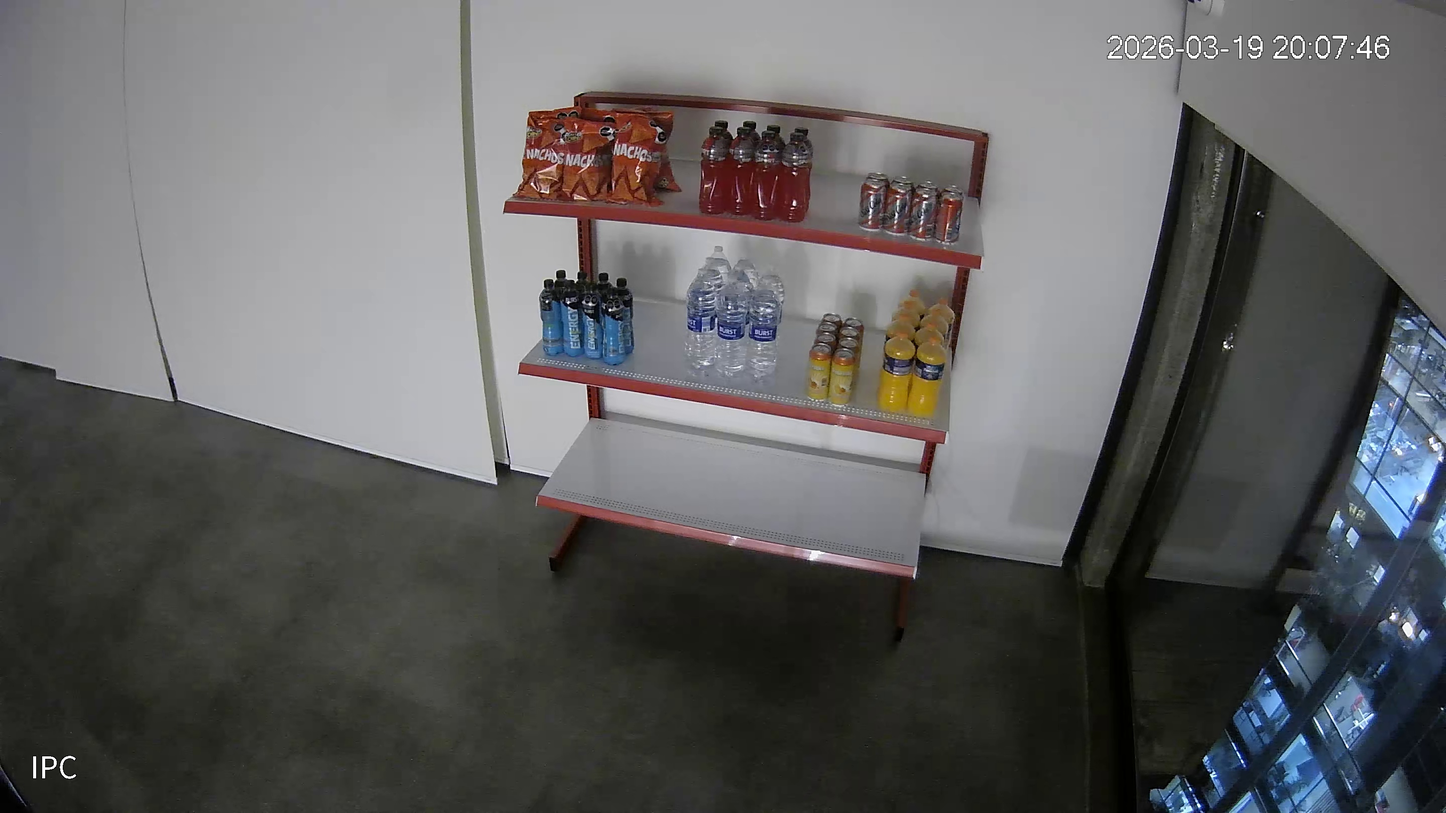agua_burst: (746, 276, 779, 384), (733, 252, 759, 288), (711, 246, 732, 283)
burst_energetica_roja: (726, 127, 753, 214), (794, 127, 812, 213), (713, 121, 732, 148)
burst_energy: (539, 279, 561, 354), (597, 273, 613, 294), (576, 271, 588, 294)
nachos_naturasol: (604, 114, 670, 203), (562, 116, 611, 200), (528, 106, 581, 118)
nebraska_mango: (805, 344, 830, 401), (814, 333, 836, 353), (815, 322, 838, 335)
sisi_cola: (909, 189, 938, 238), (868, 172, 891, 188), (891, 174, 913, 184)
sun_paradise_naranja: (892, 300, 920, 327), (887, 314, 915, 339), (915, 323, 944, 345)
